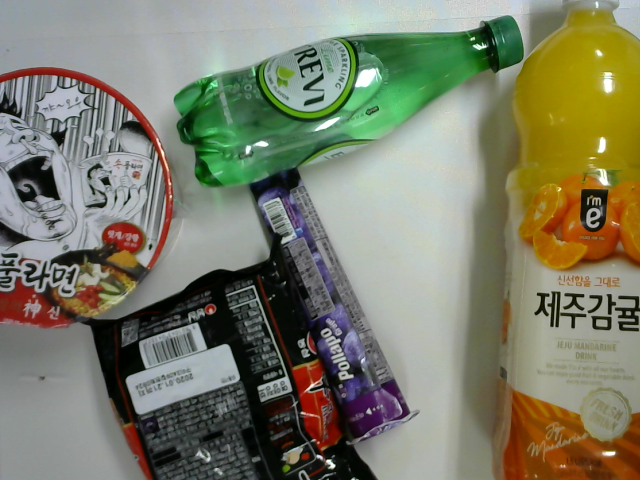Hejangpul: (1, 60, 184, 331)
Jeju_Tangerine_1.5L: (499, 1, 640, 480)
Polapo_Grape: (235, 122, 425, 453)
Sinramen_Black: (77, 241, 383, 480)
Treviraim_500ml: (167, 4, 535, 194)
